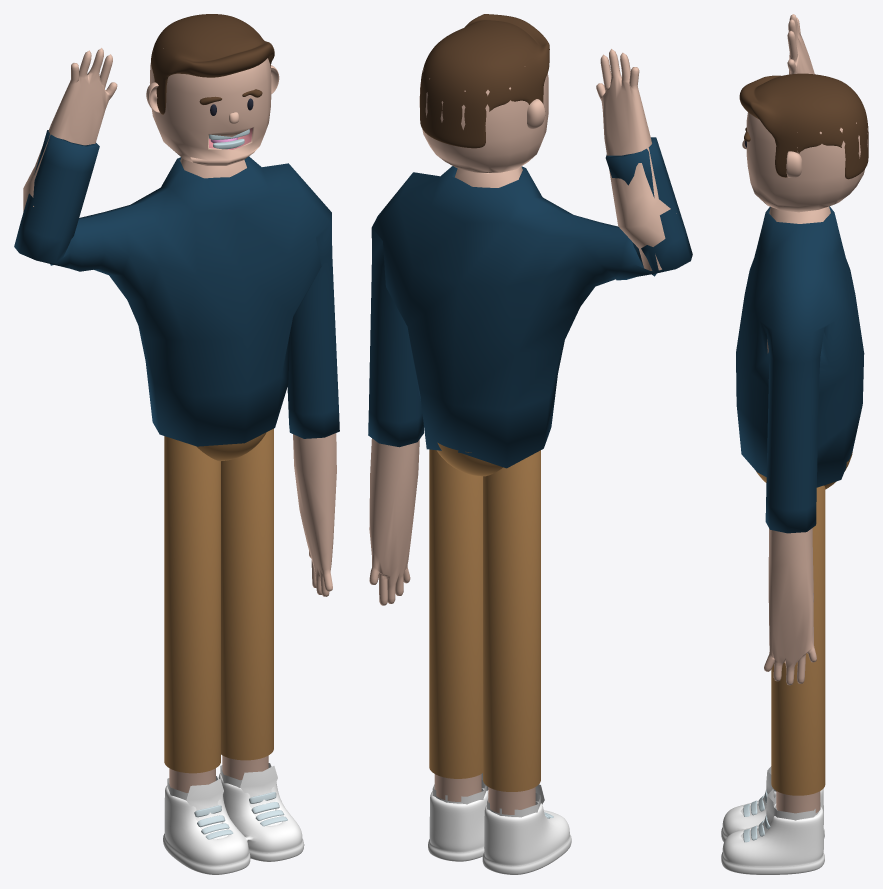
File: wavingPerson.gltf
The picture shows the model from 3 angles, left to right: view 1: azimuth 30°, elevation 25°; view 2: azimuth 150°, elevation 25°; view 3: azimuth 270°, elevation 25°; orthographic projection. The views are drawn at different scales.
Parts seen in each view (by area): view 1: jumper, pants, body, head, Shoe, hair, Cube.001, Cube.004, trousers; view 2: jumper, pants, body, hair, Shoe, head, trousers; view 3: jumper, pants, hair, body, head, Shoe, Cylinder, Cube.003, Cube.004.
Boxes of the visible parts, x1,y1,x2,y2 form: jumper: (14,130,339,446); pants: (164,428,273,792); body: (23,48,336,596); head: (150,48,271,165); Shoe: (163,773,304,874); hair: (151,14,274,114); Cube.001: (186,779,228,839); Cube.004: (240,766,281,825); trousers: (196,432,266,461); jumper: (368,137,692,468); pants: (429,449,540,814); body: (369,49,676,605); hair: (420,14,549,148); Shoe: (428,788,571,874); head: (419,68,548,173); trousers: (436,442,502,476); jumper: (736,206,864,533); pants: (771,485,825,813); hair: (739,73,868,179); body: (764,14,830,685); head: (746,112,867,212); Shoe: (721,789,824,874); Cylinder: (786,151,802,177); Cube.003: (773,796,820,820); Cube.004: (740,789,773,839).
Size of the model in its own units: 0.9475 by 2.36 by 0.4067.
